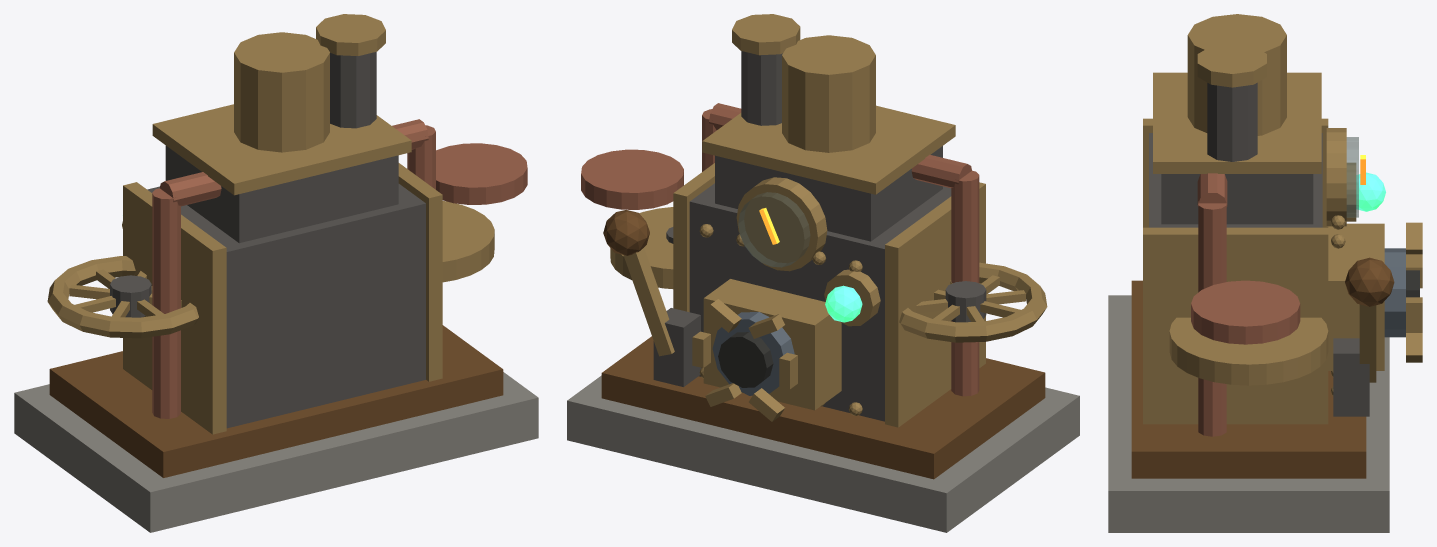
Rendered from Maquinaria_Antigua_Cuarzo.glb.
The picture shows the model from 3 angles, left to right: view 1: azimuth 30°, elevation 25°; view 2: azimuth 150°, elevation 25°; view 3: azimuth 270°, elevation 25°; orthographic projection. The views are drawn at different scales.
Parts seen in each view (by area): view 1: Main_Body, Machine_Base_Stone, Machine_Base_Wood, Body_Band_-0.78, Top_Trim, EnergyChamber_Frame, Top_Housing, Pipe_Left_Vert, SecondaryGear, Flywheel, Body_Band_+0.78, MainGear (+5 smaller); view 2: Machine_Base_Stone, Machine_Base_Wood, Main_Body, Body_Band_-0.78, Top_Trim, EnergyChamber_Frame, QuartzSocket_Housing, Top_Housing, PressureGauge_Bezel, SecondaryGear, Pipe_Left_Vert, Flywheel (+19 smaller); view 3: Machine_Base_Stone, Body_Band_+0.78, Machine_Base_Wood, Top_Trim, MainGear, Top_Housing, EnergyChamber_Frame, SecondaryGear, QuartzSocket_Housing, Pipe_Right_Vert, ExhaustStack, Lever_Base (+15 smaller).
Part boxes in pixels (box(x1,y1,x2,y2)): Main_Body: box(147, 184, 425, 428); Machine_Base_Stone: box(14, 372, 538, 532); Machine_Base_Wood: box(49, 325, 503, 477); Body_Band_-0.78: box(123, 182, 226, 434); Top_Trim: box(152, 104, 411, 195); EnergyChamber_Frame: box(234, 32, 329, 152); Top_Housing: box(165, 145, 398, 243); Pipe_Left_Vert: box(152, 188, 180, 418); SecondaryGear: box(436, 143, 527, 204); Flywheel: box(47, 256, 198, 338); Body_Band_+0.78: box(398, 163, 442, 381); MainGear: box(442, 201, 494, 282); Machine_Base_Stone: box(567, 375, 1079, 532); Machine_Base_Wood: box(601, 336, 1045, 479); Main_Body: box(689, 183, 951, 421); Body_Band_-0.78: box(885, 182, 985, 427); Top_Trim: box(702, 105, 955, 194); EnergyChamber_Frame: box(782, 35, 875, 152); QuartzSocket_Housing: box(703, 279, 841, 410); Top_Housing: box(715, 146, 942, 241); PressureGauge_Bezel: box(736, 177, 827, 271); SecondaryGear: box(581, 149, 683, 209); Pipe_Left_Vert: box(951, 170, 979, 396); Flywheel: box(899, 262, 1047, 342); Machine_Base_Stone: box(1108, 295, 1389, 532); Body_Band_+0.78: box(1143, 227, 1328, 424); Machine_Base_Wood: box(1131, 280, 1366, 478); Top_Trim: box(1153, 72, 1321, 173); MainGear: box(1169, 317, 1328, 385); Top_Housing: box(1161, 174, 1313, 224); EnergyChamber_Frame: box(1187, 14, 1286, 135); SecondaryGear: box(1191, 280, 1300, 344); QuartzSocket_Housing: box(1328, 223, 1384, 370); Pipe_Right_Vert: box(1198, 201, 1226, 436); ExhaustStack: box(1207, 82, 1257, 161); Lever_Base: box(1333, 338, 1369, 416).
Size of the model in its own units: 3.33 by 2.73 by 1.9.
